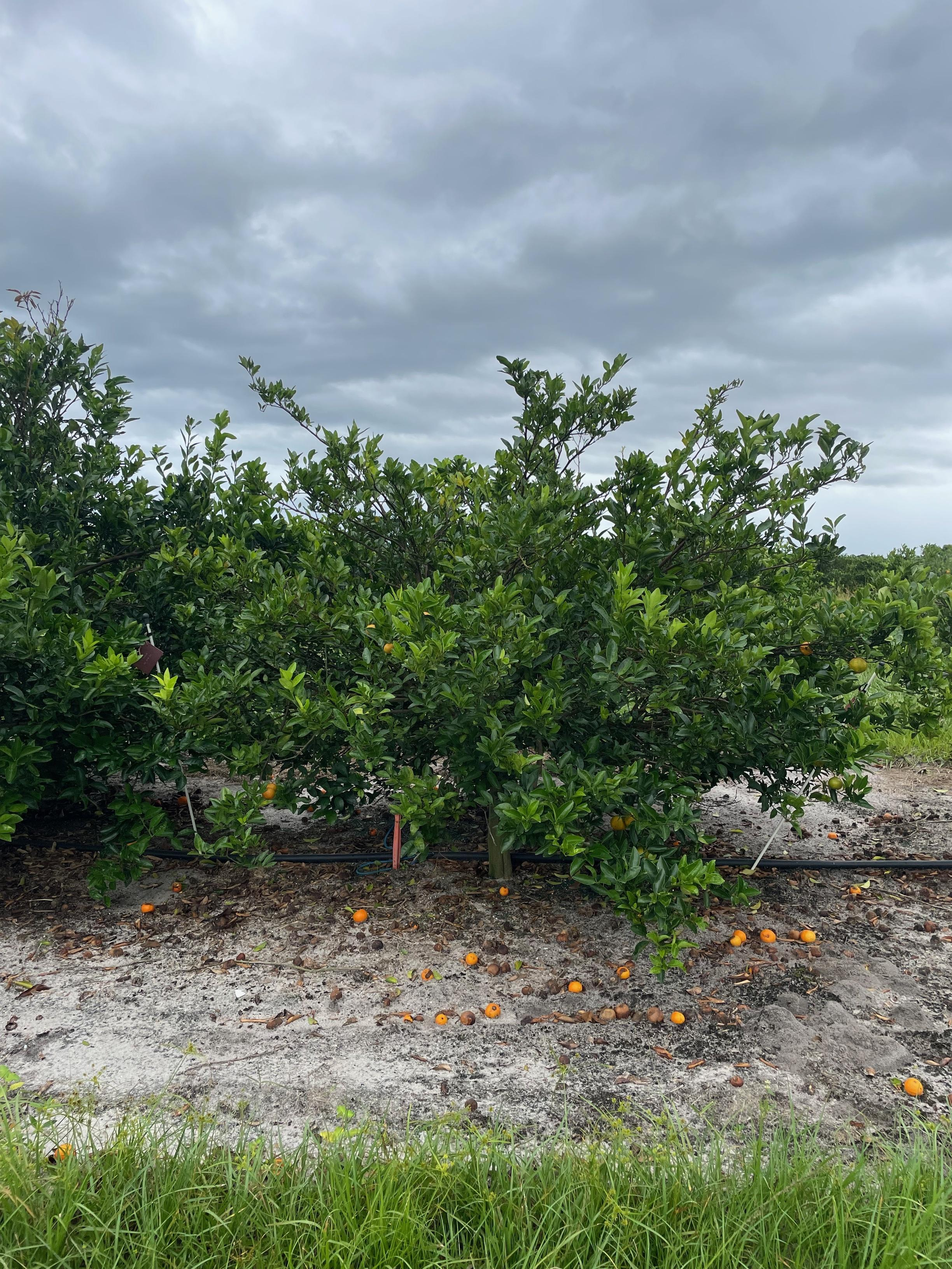fruit_on_ground: (796, 637, 819, 659), (846, 654, 869, 675), (621, 811, 639, 829), (609, 814, 626, 832), (381, 640, 397, 657), (826, 776, 844, 791), (261, 787, 276, 801), (265, 781, 278, 794)
fruit_on_tree: (52, 1140, 77, 1164), (903, 1075, 925, 1097), (483, 1000, 502, 1019), (647, 1005, 665, 1023), (350, 906, 369, 923), (458, 1009, 476, 1026), (759, 928, 777, 945), (668, 1009, 686, 1025), (598, 1006, 617, 1021), (800, 927, 817, 943), (616, 964, 632, 980), (731, 928, 747, 944), (484, 961, 501, 976), (728, 1072, 745, 1087), (615, 1002, 631, 1017), (464, 950, 480, 965), (567, 979, 583, 994), (139, 901, 156, 915), (555, 928, 570, 943), (922, 919, 938, 933), (419, 966, 434, 980), (170, 880, 184, 894), (556, 1052, 570, 1066), (434, 1012, 448, 1026), (728, 934, 742, 948), (788, 928, 801, 941), (848, 884, 862, 896), (176, 794, 190, 806), (497, 884, 510, 896), (304, 802, 317, 813), (826, 831, 838, 841), (882, 811, 893, 821)
